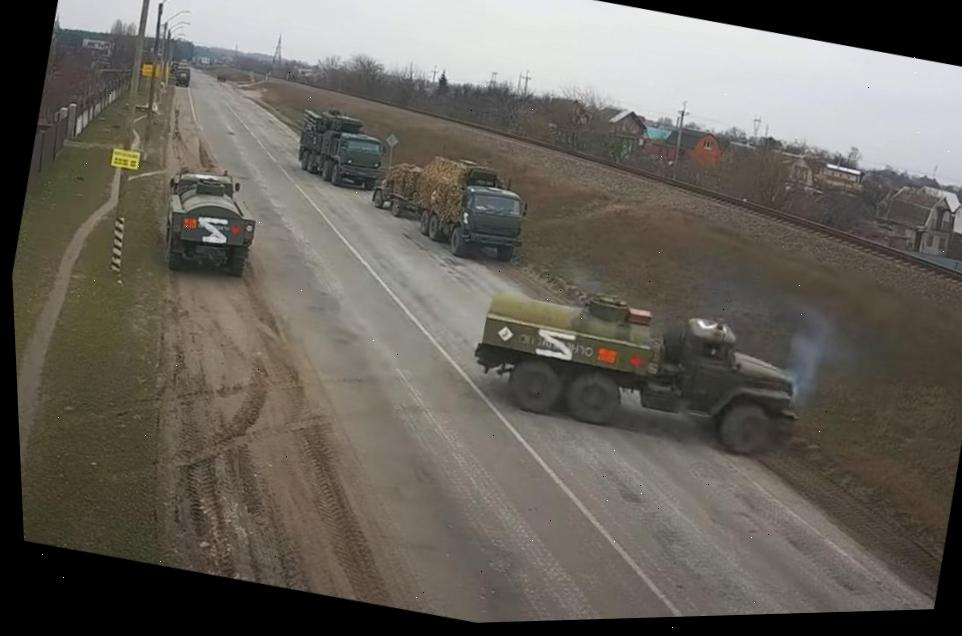truck: (457, 265, 821, 476), (400, 145, 536, 265), (145, 154, 264, 285), (286, 100, 393, 194), (163, 56, 195, 97)
